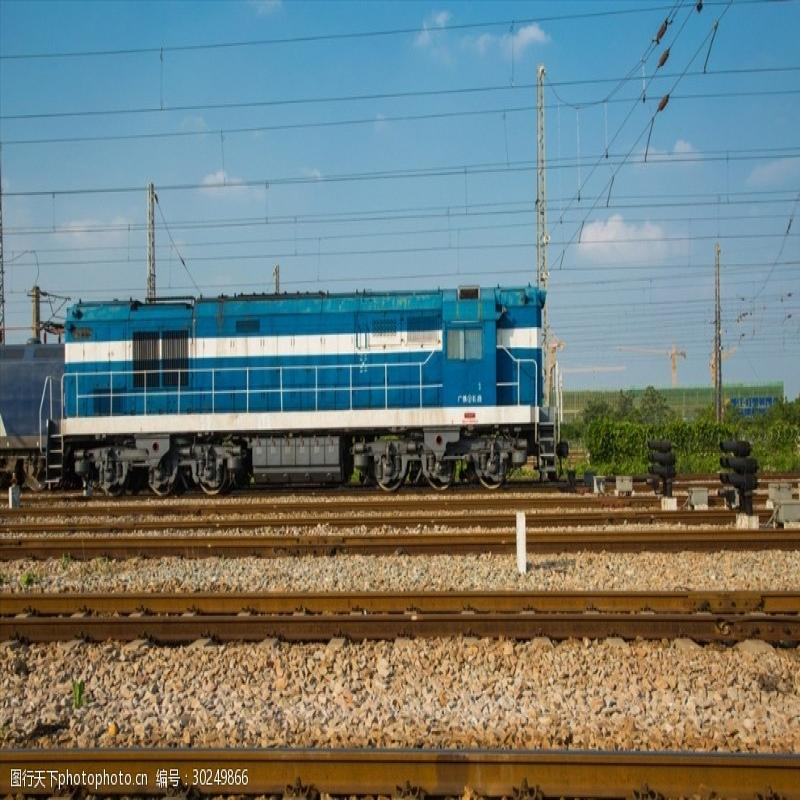train: (56, 285, 578, 492)
